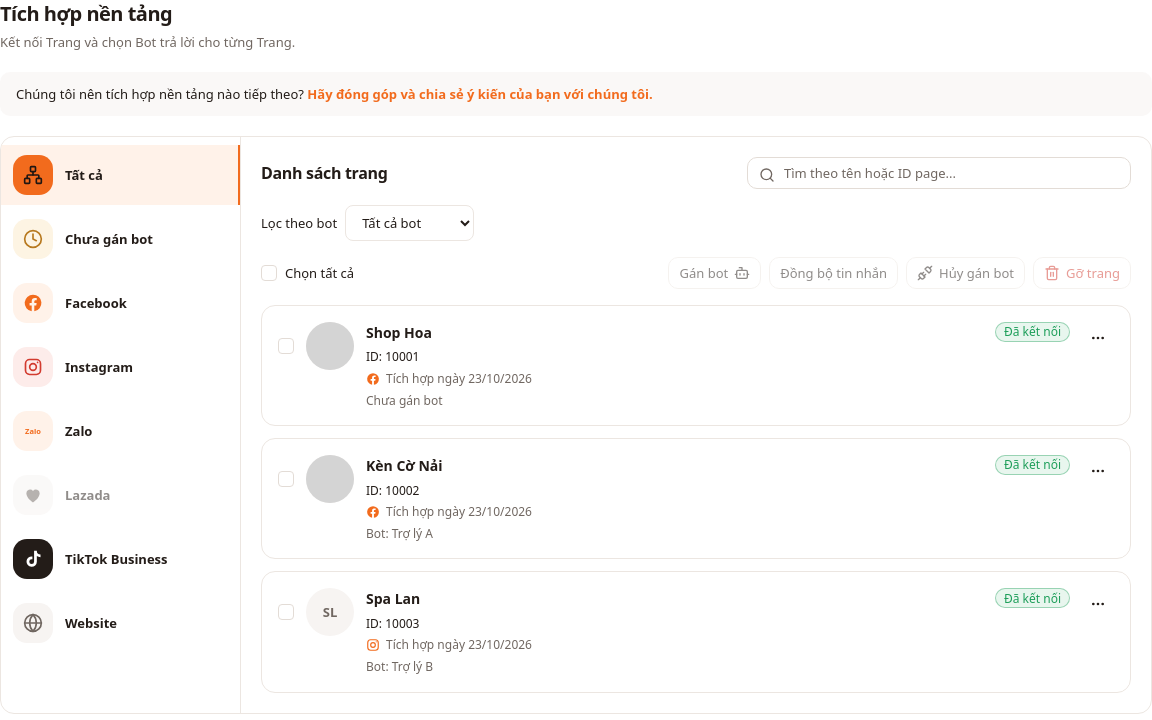
it: requires an actual bot choice before saving a bulk assignment
Expected: the text "Kèn Cờ Nải" is shown, [366, 455, 443, 478]
Click the checkbox named "Chọn Kèn Cờ Nải". click: (286, 479)
box: [278, 471, 294, 487]
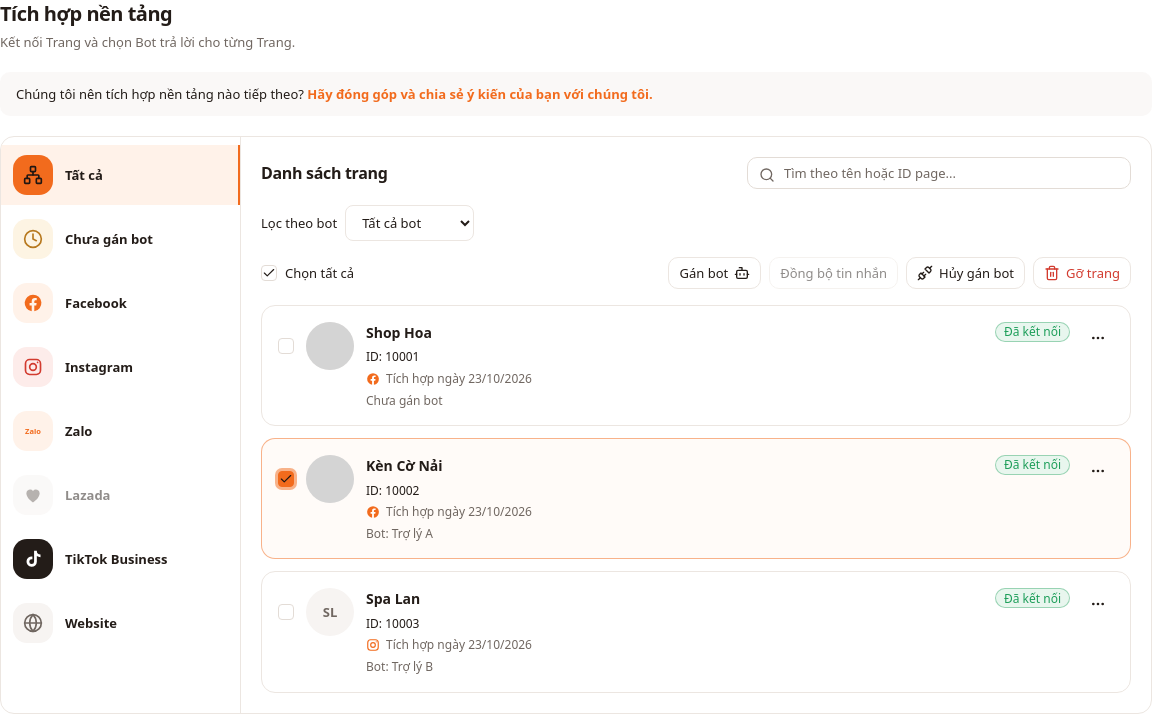
Click the checkbox named "Chọn Spa Lan". click: (286, 612)
box: [278, 604, 294, 620]
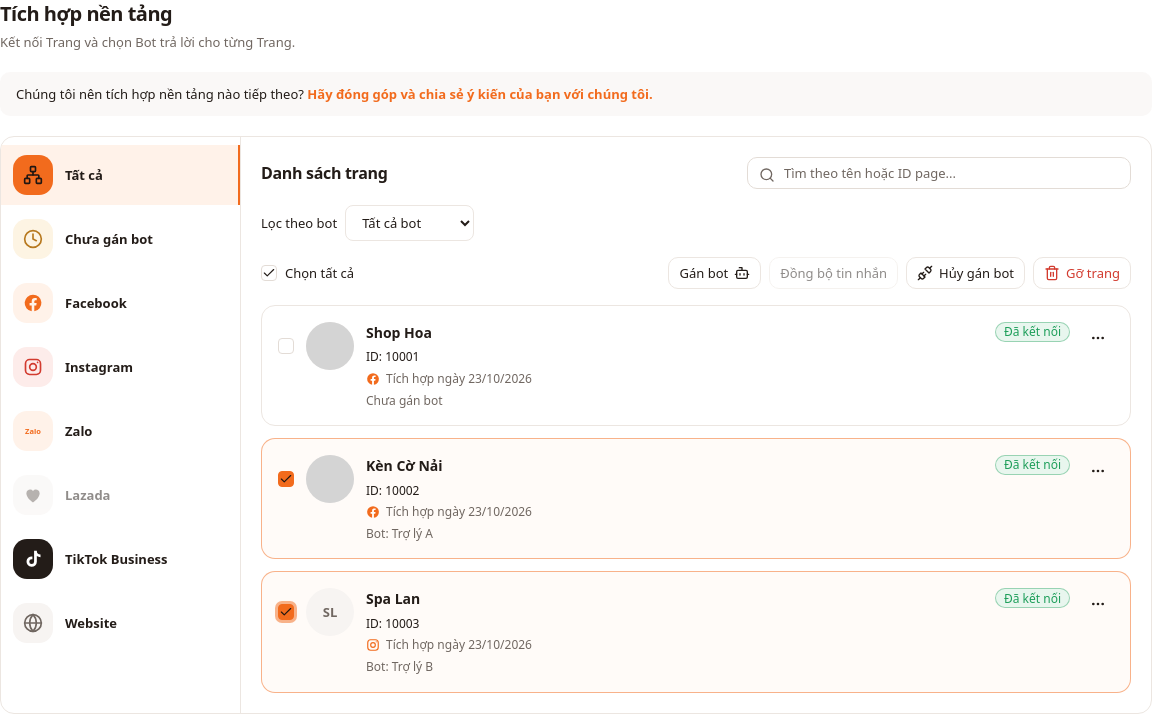
Click the button "Gán bot". click: (715, 273)
box: [668, 257, 761, 289]
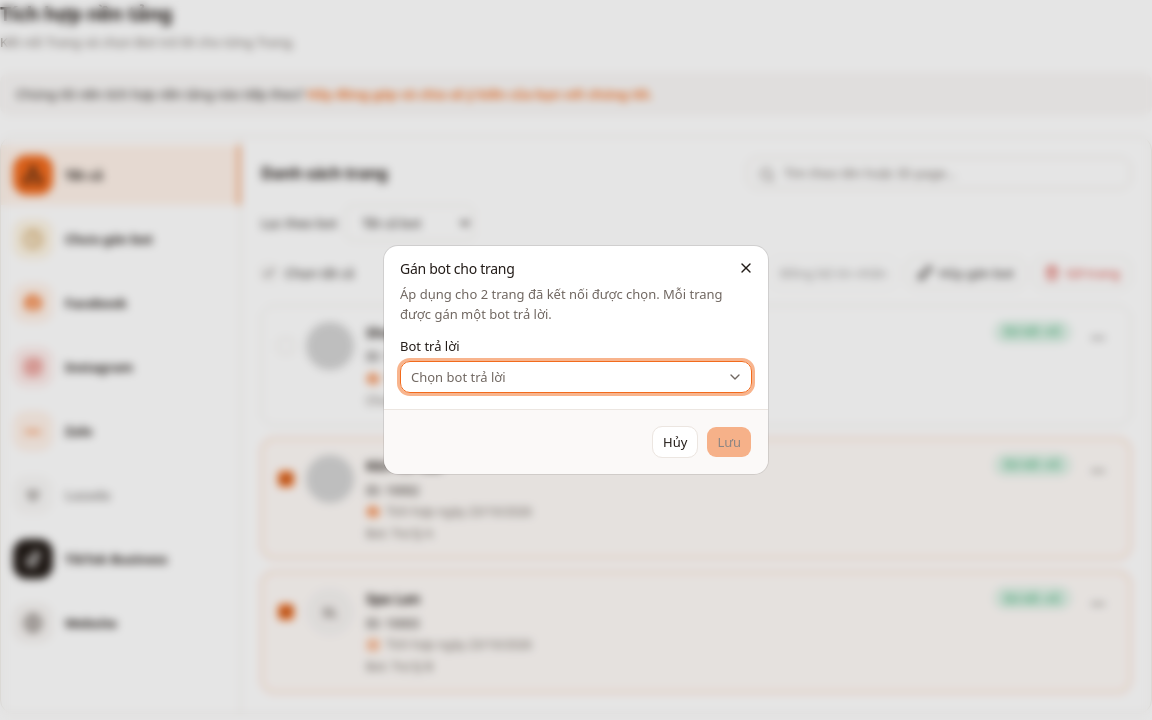
Expected: the button "Lưu" is disabled, [706, 426, 752, 458]
Expected: the dropdown labelled "bot trả lời" reads "Chọn bot trả lời", [400, 361, 752, 393]
